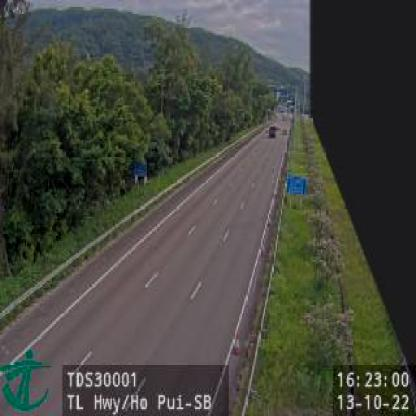Car: (267, 126, 277, 138)
